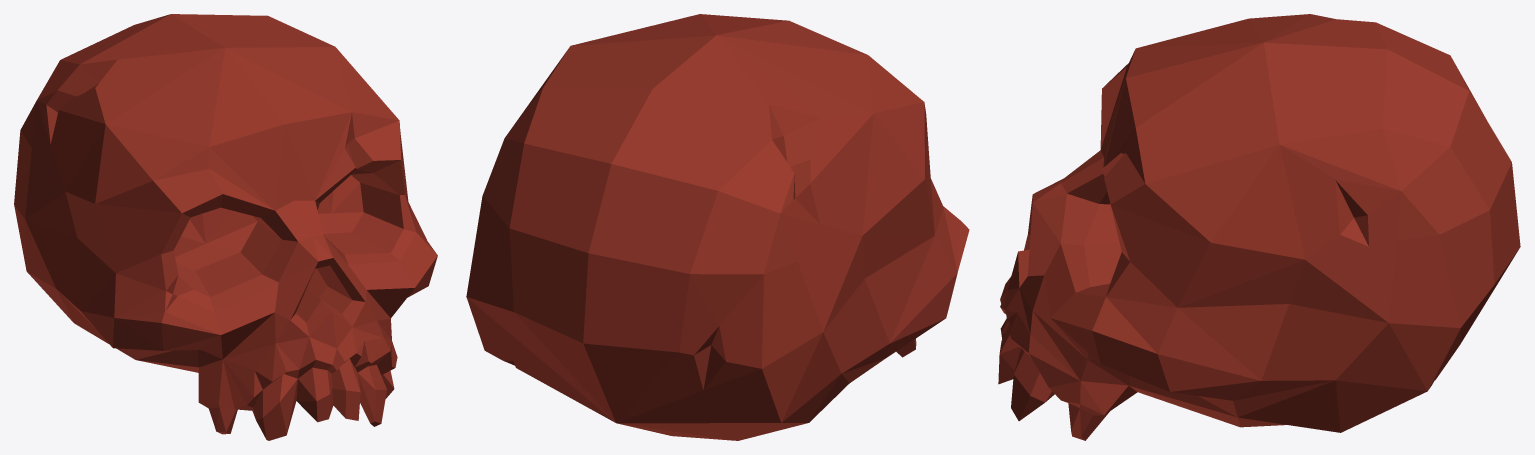
File: SM_Prop_Treasure_Skull_01.fbx
3 views of the same model, side by side, from view 1: azimuth 30°, elevation 25°; view 2: azimuth 150°, elevation 25°; view 3: azimuth 270°, elevation 25° (orthographic). The views are drawn at different scales.
Parts seen in each view (by area): view 1: SM_Prop_Treasure_Skull_01; view 2: SM_Prop_Treasure_Skull_01; view 3: SM_Prop_Treasure_Skull_01.
Part boxes in pixels (x1,y1,x2,y2): SM_Prop_Treasure_Skull_01: [14, 14, 437, 440]; SM_Prop_Treasure_Skull_01: [466, 14, 969, 440]; SM_Prop_Treasure_Skull_01: [998, 14, 1520, 440].
Bounding box in the file's own units: 25.84 × 24.53 × 32.74.
